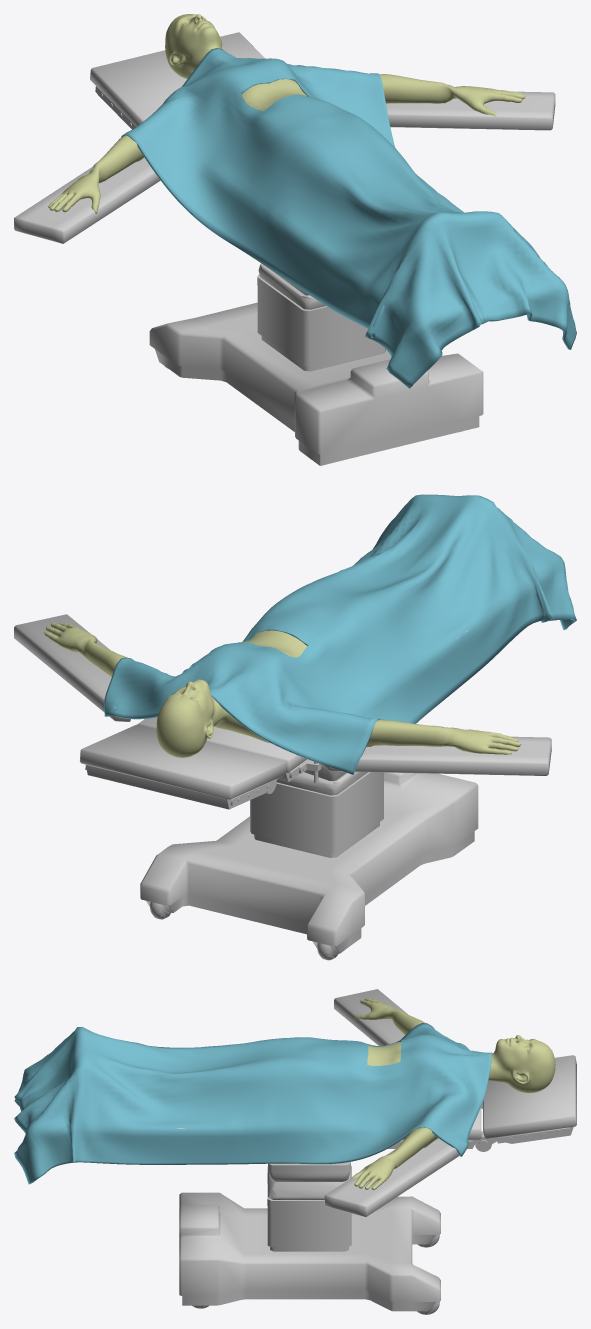
File: Surgical_table.fbx
The picture shows the model from 3 angles, top to bottom: view 1: azimuth 30°, elevation 25°; view 2: azimuth 150°, elevation 25°; view 3: azimuth 270°, elevation 25°; orthographic projection. The views are drawn at different scales.
Visible parts, largest first — view 1: Cover, Surgical_bed, Patient; view 2: Cover, Surgical_bed, Patient; view 3: Cover, Surgical_bed, Patient.
Boxes of the visible parts, box(x1,y1,x2,y2) form: Cover: box(121, 48, 576, 388); Surgical_bed: box(14, 32, 555, 465); Patient: box(48, 14, 525, 213); Cover: box(104, 494, 576, 774); Surgical_bed: box(14, 614, 551, 960); Patient: box(44, 622, 521, 757); Cover: box(14, 1023, 491, 1184); Surgical_bed: box(177, 989, 576, 1314); Patient: box(351, 998, 555, 1190).
Size of the model in its own units: 192 by 101 by 210.
